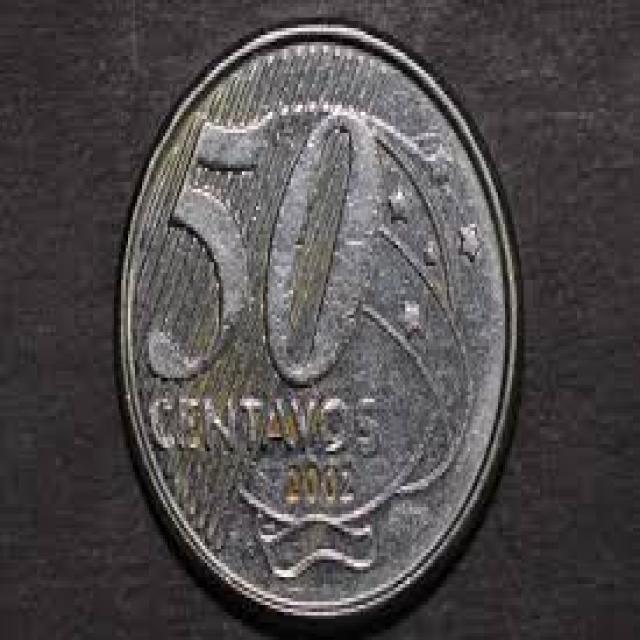50 cent: (112, 19, 519, 606)
